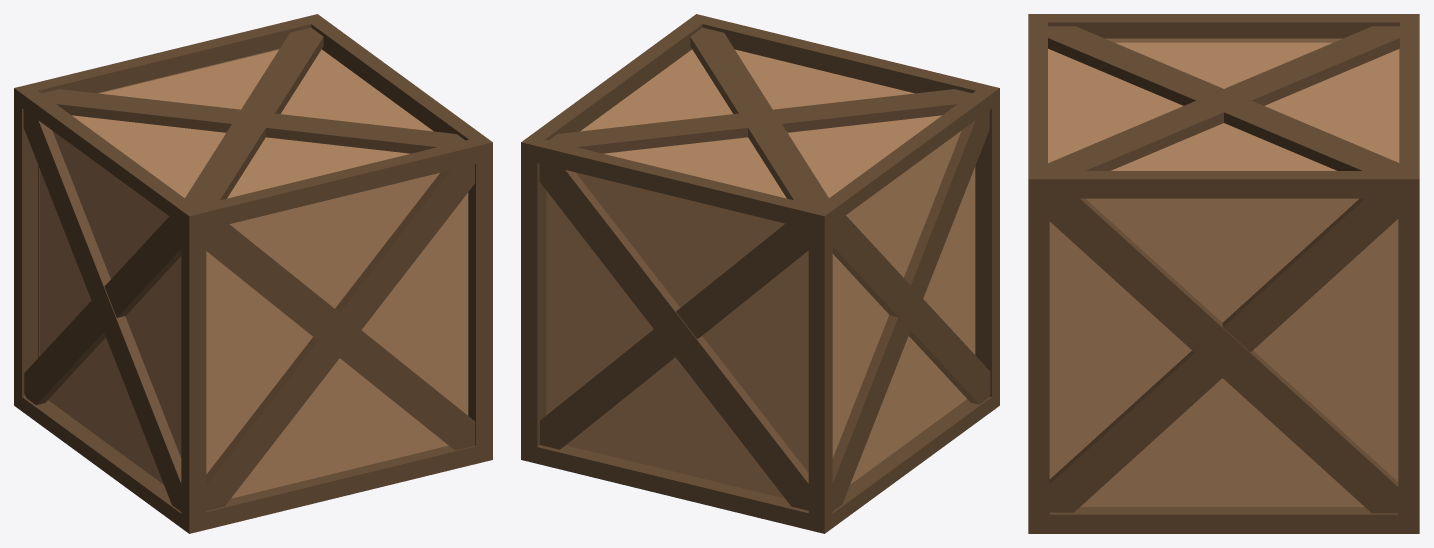
File: skrzynia.fbx
3 renders of one model, left to right at view 1: azimuth 30°, elevation 25°; view 2: azimuth 150°, elevation 25°; view 3: azimuth 270°, elevation 25°, orthographic. The views are drawn at different scales.
Parts seen in each view (by area): view 1: Cube, Cube.006, Cube.005, Cube.009, Cube.002, Cube.010, Cube.001; view 2: Cube, Cube.004, Cube.003, Cube.010, Cube.001, Cube.009, Cube.002; view 3: Cube, Cube.008, Cube.007, Cube.002, Cube.001.
Part boxes in pixels (box(x1,y1,x2,y2)): Cube: box(14, 14, 492, 533); Cube.006: box(206, 164, 474, 510); Cube.005: box(206, 224, 475, 450); Cube.009: box(23, 110, 181, 511); Cube.002: box(42, 89, 464, 153); Cube.010: box(24, 216, 181, 405); Cube.001: box(185, 27, 323, 205); Cube: box(521, 14, 999, 533); Cube.004: box(539, 164, 808, 510); Cube.003: box(540, 223, 808, 449); Cube.010: box(832, 110, 989, 510); Cube.001: box(549, 89, 971, 153); Cube.009: box(832, 215, 990, 404); Cube.002: box(690, 27, 828, 205); Cube: box(1028, 14, 1419, 533); Cube.008: box(1049, 198, 1398, 513); Cube.007: box(1049, 198, 1398, 512); Cube.002: box(1048, 26, 1399, 170); Cube.001: box(1048, 26, 1399, 170).
Bounding box in the file's own units: 1000 × 1000 × 1000.
